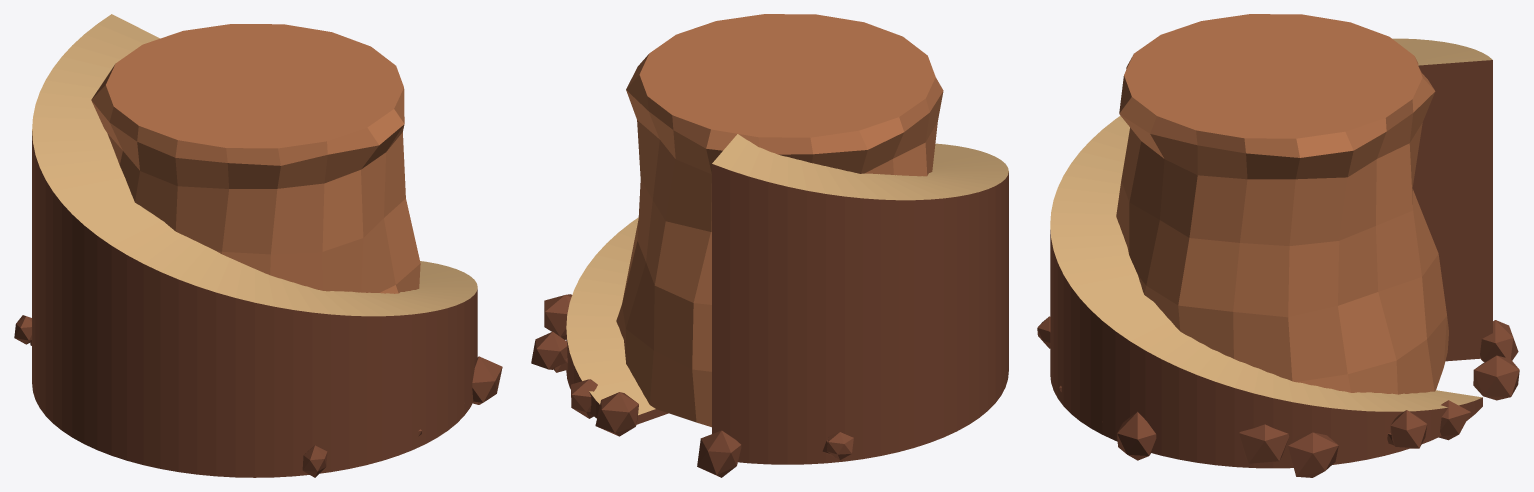
File: glint_spire.fbx
3 views of the same model, side by side, from view 1: azimuth 30°, elevation 25°; view 2: azimuth 150°, elevation 25°; view 3: azimuth 270°, elevation 25° (orthographic).
Parts seen in each view (by area): view 1: Spire_Ramp, Spire_Column, Spire_Scree; view 2: Spire_Ramp, Spire_Column, Spire_Scree; view 3: Spire_Column, Spire_Ramp, Spire_Scree.
Boxes of the visible parts, x1,y1,x2,y2 form: Spire_Ramp: (32, 14, 477, 477); Spire_Column: (91, 24, 420, 293); Spire_Scree: (14, 315, 502, 477); Spire_Ramp: (566, 134, 1008, 464); Spire_Column: (616, 14, 943, 427); Spire_Scree: (531, 294, 853, 477); Spire_Column: (1116, 14, 1448, 394); Spire_Ramp: (1050, 38, 1492, 468); Spire_Scree: (1037, 316, 1519, 477).
Size of the model in its own units: 2427 by 1735 by 2423.
